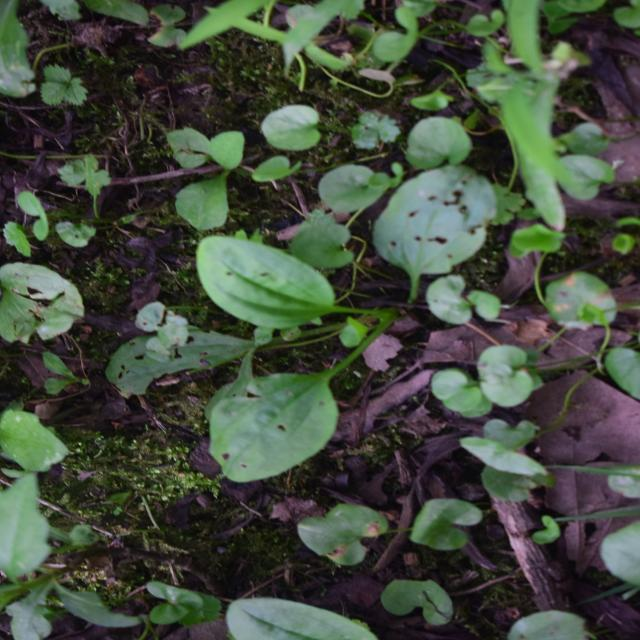plantain: (164, 200, 489, 497)
